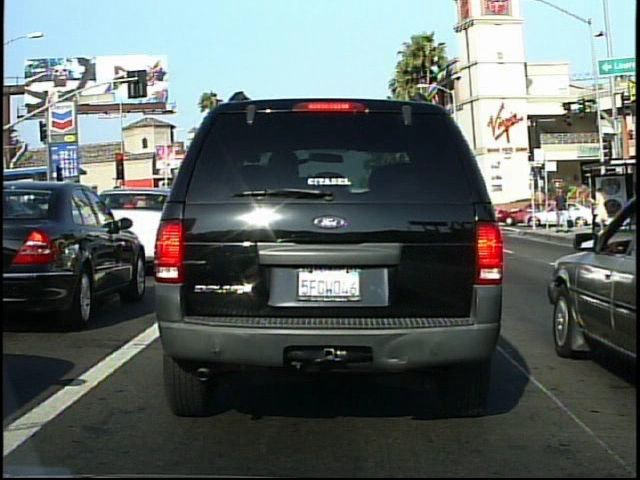person: (587, 182, 613, 236), (551, 183, 572, 237)
